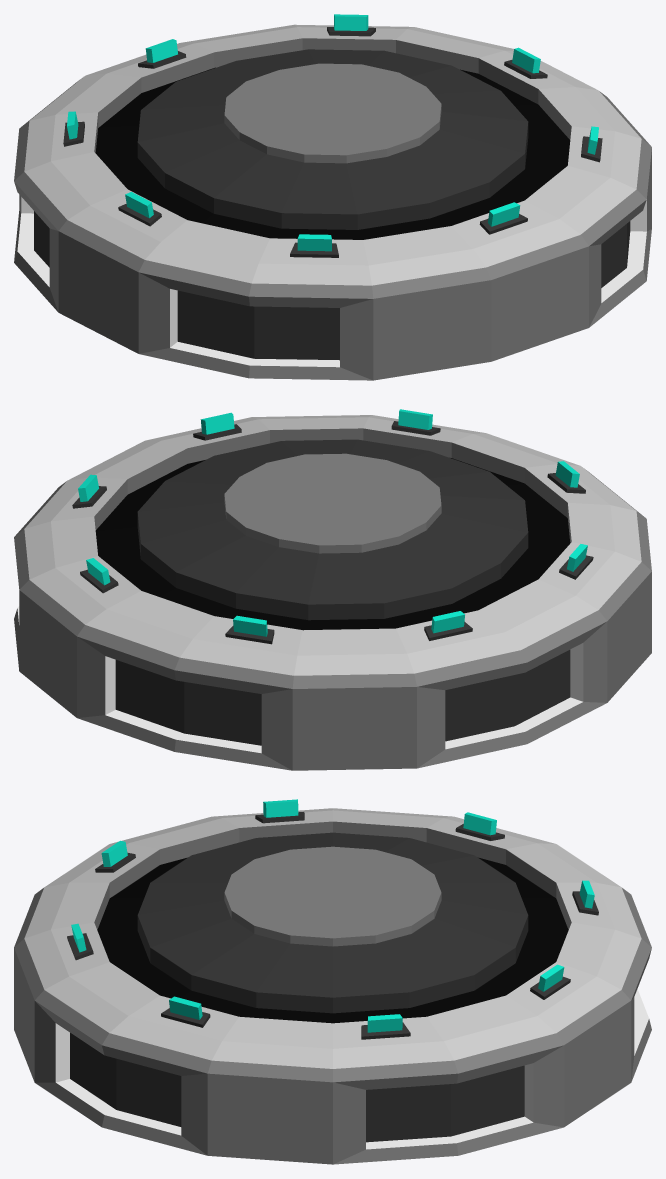
File: Mesa_com_Globo.gltf
3 renders of one model, top to bottom at view 1: azimuth 30°, elevation 25°; view 2: azimuth 150°, elevation 25°; view 3: azimuth 270°, elevation 25°, orthographic.
Visible parts, largest first — view 1: Mesa_Com_Globo; view 2: Mesa_Com_Globo; view 3: Mesa_Com_Globo.
Boxes of the visible parts, <box> form: Mesa_Com_Globo: <box>14,14,651,380</box>; Mesa_Com_Globo: <box>14,409,651,770</box>; Mesa_Com_Globo: <box>14,799,651,1164</box>.
Size of the model in its own units: 3.17 by 0.7527 by 3.17.
Materials: 1 (1 with a texture image).
